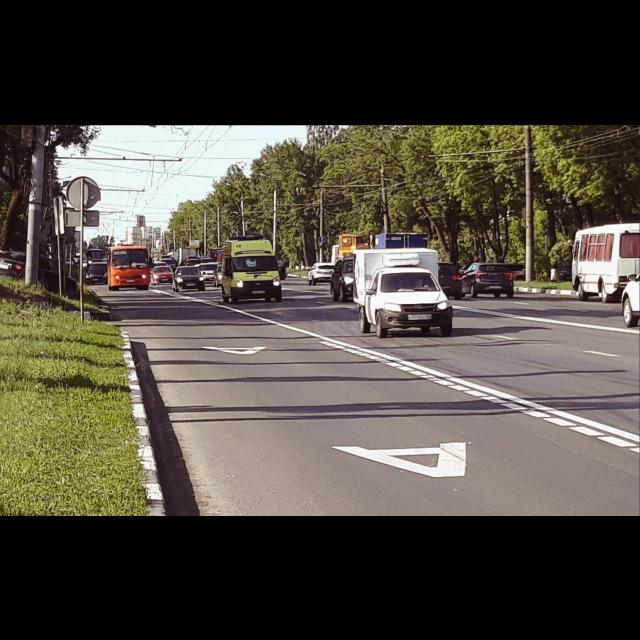road: (96, 277, 640, 514)
